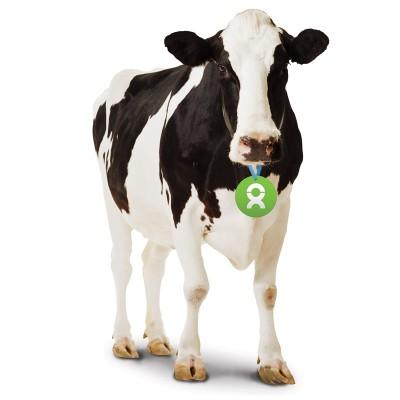muzzles: (226, 133, 286, 170)
